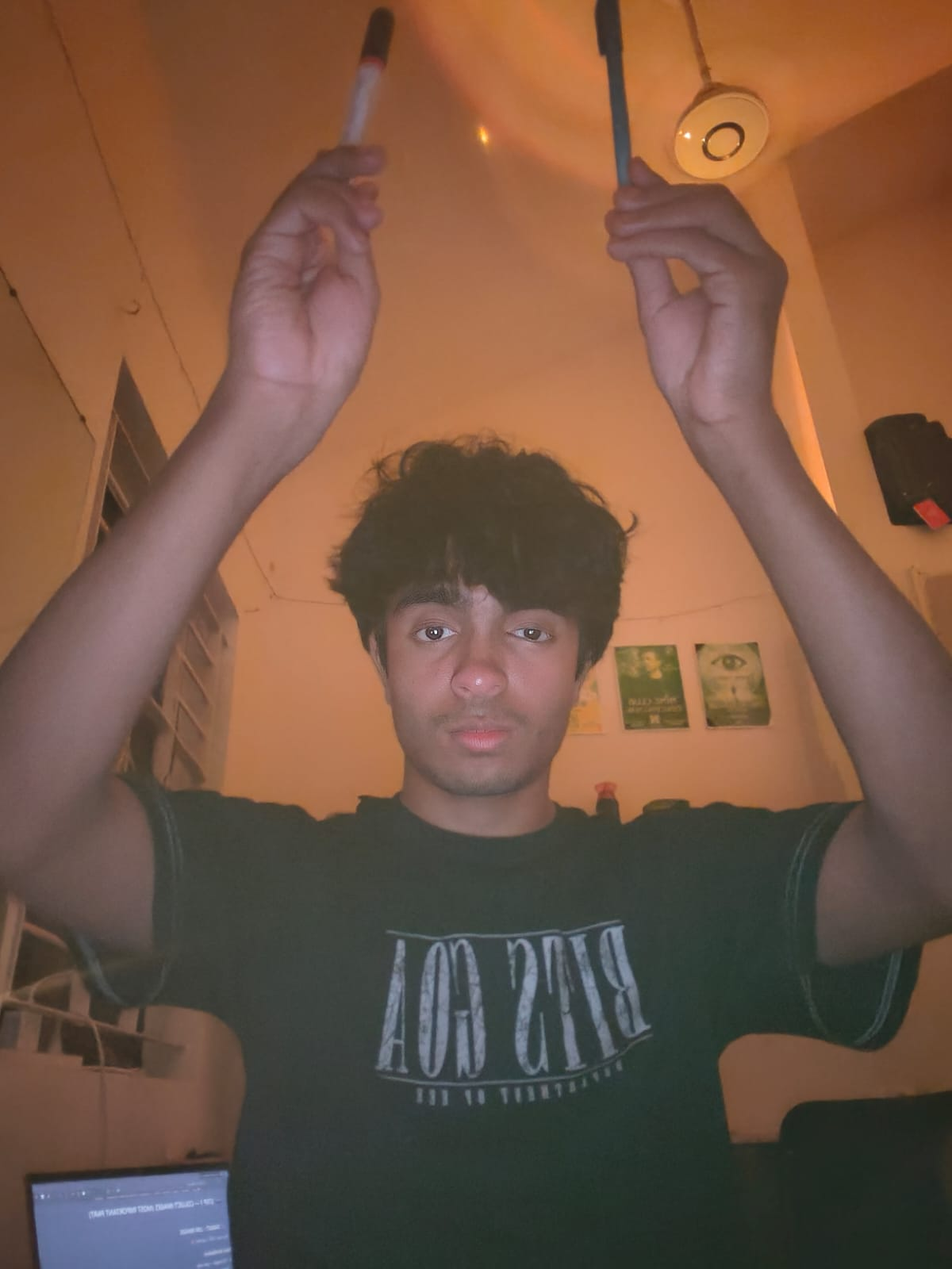case: (332, 3, 400, 161)
pen: (573, 0, 652, 208)
